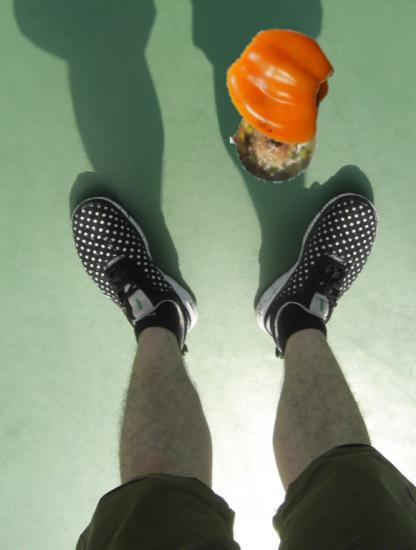Cactus: (230, 98, 318, 186)
Pepper: (223, 26, 345, 148)
